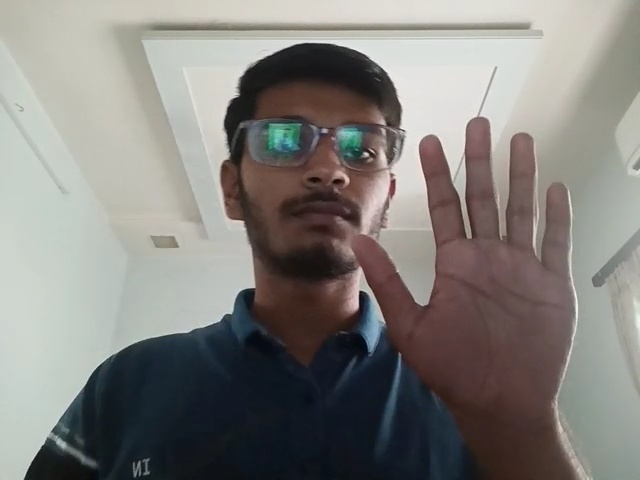Hello: (348, 113, 593, 422)
